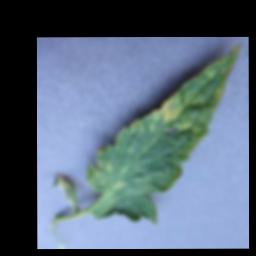Leaf_Mold: (129, 89, 188, 136)
